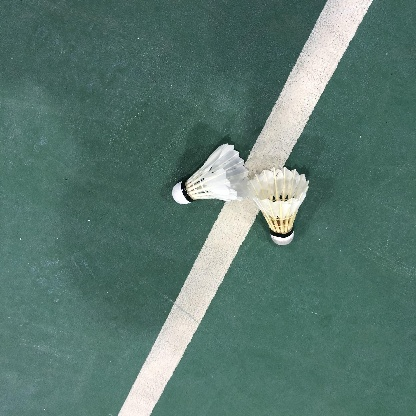ball_single: (247, 167, 309, 246), (172, 143, 252, 204)
